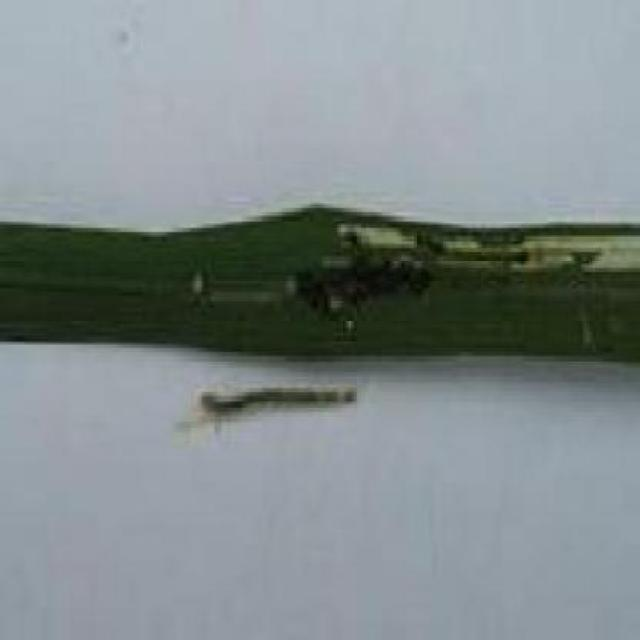leaf-folder: (177, 355, 428, 451)
